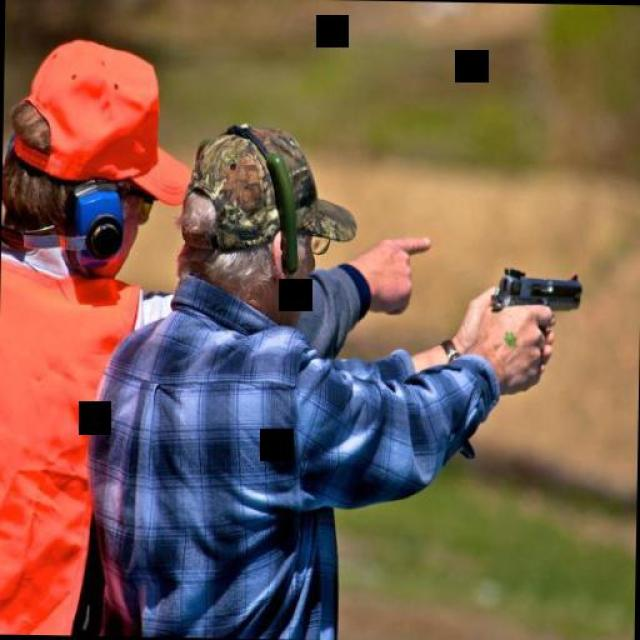gun: (488, 261, 584, 340)
